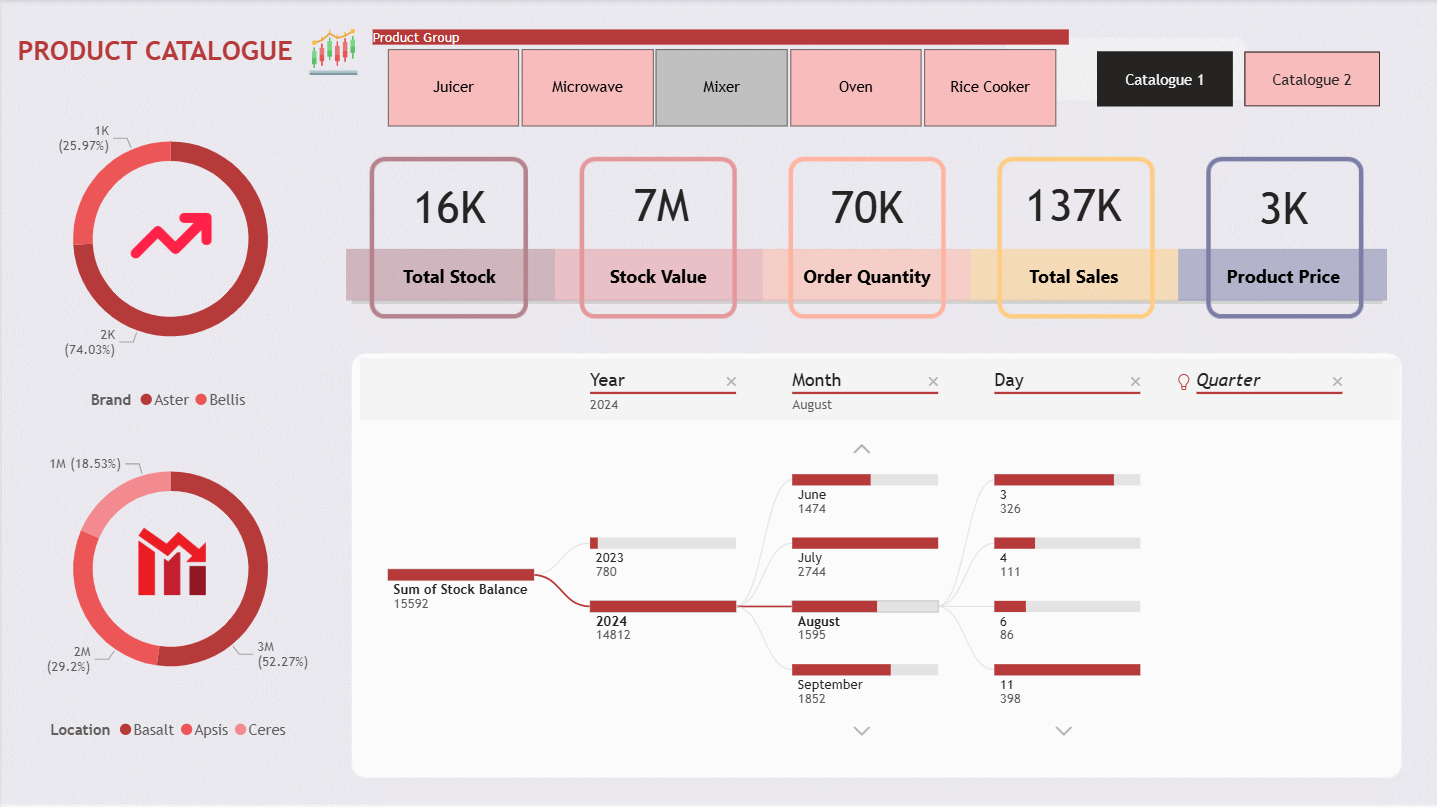

The page's visual inventory and layout, read from the dashboard file:
{"tool":"powerbi","page":{"name":"Catalogue 1","canvas":[1280,720],"ordinal":0},"visuals":[{"type":"card","title":"Total Stock Balance","fields":{"Values":["Sum(_stock.Stock Balance)"]},"box":[333.7,148.8,129.1,68.6],"z":0},{"type":"shape","box":[333.7,227.9,129.1,36],"z":1000},{"type":"shape","box":[1076.7,227.9,129.1,36],"z":2000},{"type":"shape","box":[895.4,227.9,118.6,36],"z":3000},{"type":"shape","box":[705.8,227.9,129.1,36],"z":4000},{"type":"shape","box":[519.8,227.9,129.1,36],"z":5000},{"type":"card","fields":{"Values":["Sum(_stock.Stock Value)"]},"box":[519.8,152.3,134.9,59.3],"z":6000},{"type":"card","fields":{"Values":["Sum(_stock.Order Quantity)"]},"box":[714,153.5,114,59.3],"z":7000},{"type":"card","fields":{"Values":["Sum(_sales.Total)"]},"box":[895.4,152.3,118.6,59.3],"z":8000},{"type":"card","fields":{"Values":["Sum(_product.Price)"]},"box":[1081.4,154.7,120.9,59.3],"z":9000},{"type":"decompositionTreeVisual","fields":{"ExplainBy":["_stock.Order Date.Variation.Date Hierarchy.Year","_stock.Order Date.Variation.Date Hierarchy.Month","_stock.Order Date.Variation.Date Hierarchy.Day","_stock.Order Date.Variation.Date Hierarchy.Quarter"],"Analyze":["Sum(_stock.Stock Balance)"]},"box":[314,315.1,936,372.1],"z":10000},{"type":"textbox","box":[0,27,279.8,39.3],"z":11000},{"type":"pageNavigator","box":[975.5,46.6,254,49.1],"z":12000},{"type":"donutChart","fields":{"Category":["_product.Brand"],"Y":["Sum(_product.Price)"]},"box":[0,81,300.6,294.5],"z":13000},{"type":"donutChart","fields":{"Y":["Sum(_stock.Stock Value)"],"Category":["_stock.Location"]},"box":[0,375.5,300.6,294.5],"z":14000},{"type":"image","box":[114.1,154.6,72.4,111.7],"z":15000},{"type":"image","box":[93.3,471.2,115.3,60.1],"z":16000},{"type":"slicer","fields":{"Values":["_product.Product Group"]},"box":[317.8,22.1,645.4,98.2],"z":17000},{"type":"image","box":[271.2,24.5,46.6,44.2],"z":18000}]}

Visuals, with their boxes in screenshot pixels (x1, y1, x2, y2), scaled from the page's 1280x720 canvas onto the 1437x807 screenshot:
"Total Stock Balance" card: 375:167:520:244
shape: 375:255:520:296
shape: 1209:255:1354:296
shape: 1005:255:1138:296
shape: 792:255:937:296
shape: 584:255:728:296
card - Sum(_stock.Stock Value): 584:171:735:237
card - Sum(_stock.Order Quantity): 802:172:930:239
card - Sum(_sales.Total): 1005:171:1138:237
card - Sum(_product.Price): 1214:173:1350:240
decompositionTreeVisual - _stock.Order Date.Variation.Date Hierarchy.Year x _stock.Order Date.Variation.Date Hierarchy.Month: 353:353:1403:770
textbox: 0:30:314:74
pageNavigator: 1095:52:1380:107
donutChart - _product.Brand x Sum(_product.Price): 0:91:337:421
donutChart - Sum(_stock.Stock Value) x _stock.Location: 0:421:337:751
image: 128:173:209:298
image: 105:528:234:595
slicer - _product.Product Group: 357:25:1081:135
image: 304:27:357:77
